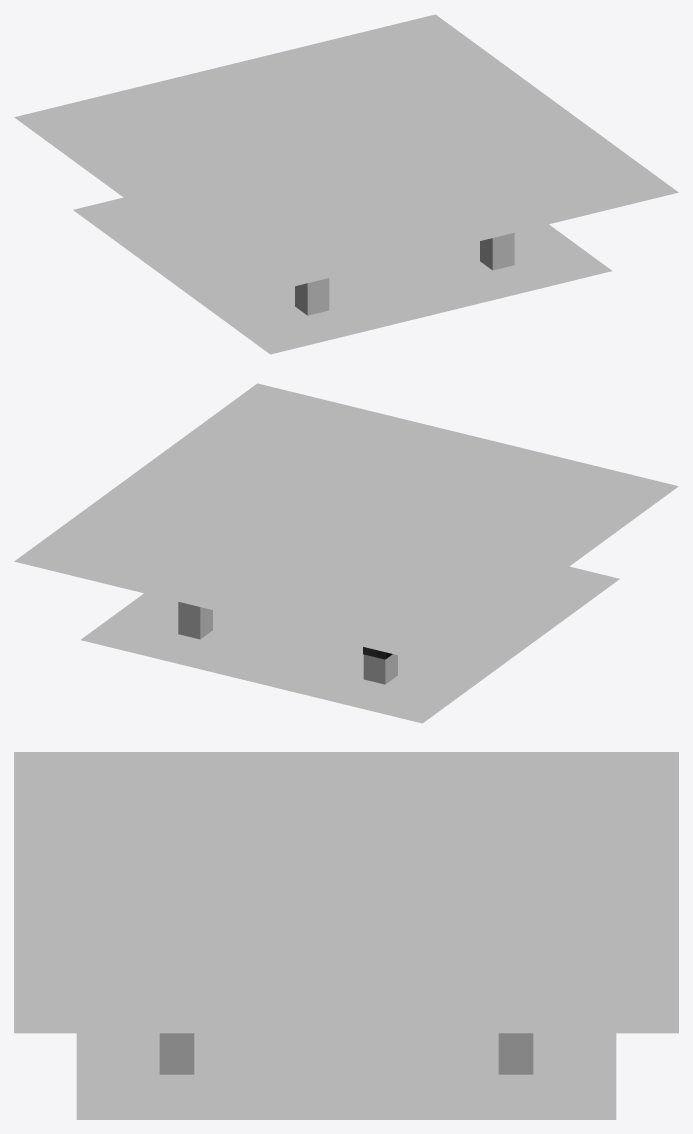
File: 2_poster.dae
The picture shows the model from 3 angles, top to bottom: view 1: azimuth 30°, elevation 25°; view 2: azimuth 150°, elevation 25°; view 3: azimuth 270°, elevation 25°; orthographic projection. The views are drawn at different scales.
Parts seen in each view (by area): view 1: ceiling, floor, poles; view 2: ceiling, floor, poles; view 3: ceiling, floor, poles.
Part boxes in pixels (box(x1,y1,x2,y2)): ceiling: box(14, 14, 678, 295); floor: box(73, 197, 611, 354); poles: box(295, 232, 514, 315); ceiling: box(14, 383, 678, 664); floor: box(81, 566, 619, 723); poles: box(178, 601, 397, 684); ceiling: box(14, 752, 678, 1033); floor: box(76, 1033, 616, 1119); poles: box(159, 1033, 533, 1074).
Bounding box in the file's own units: 56.5 × 56.5 × 10.84.
